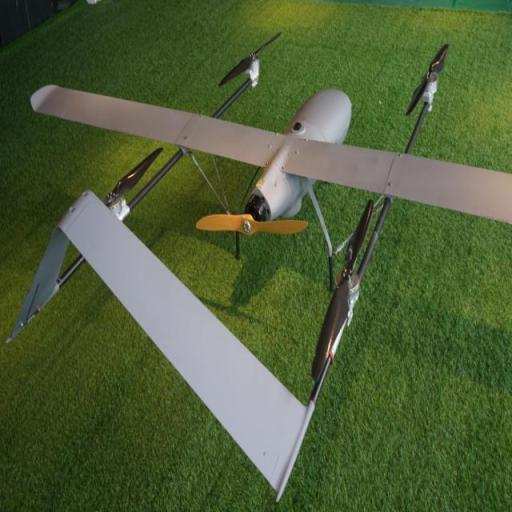uav: (13, 26, 512, 500)
